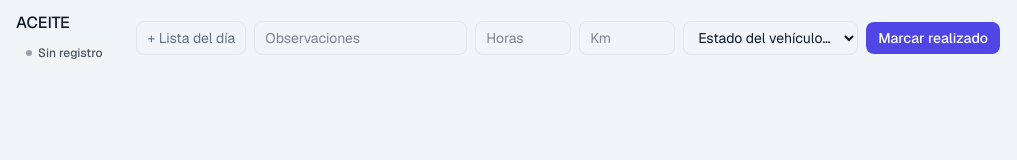
Test case: TareaChecklistItem › muestra el error de la API si el registro falla
Click the button "Marcar realizado": (933, 38) x1=866 y1=22 x2=1000 y2=54
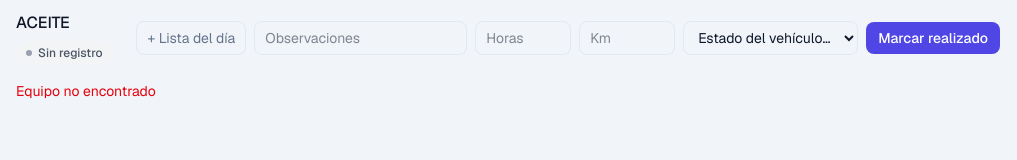
Now the message reads "Equipo no encontrado", box x1=16 y1=82 x2=156 y2=100
